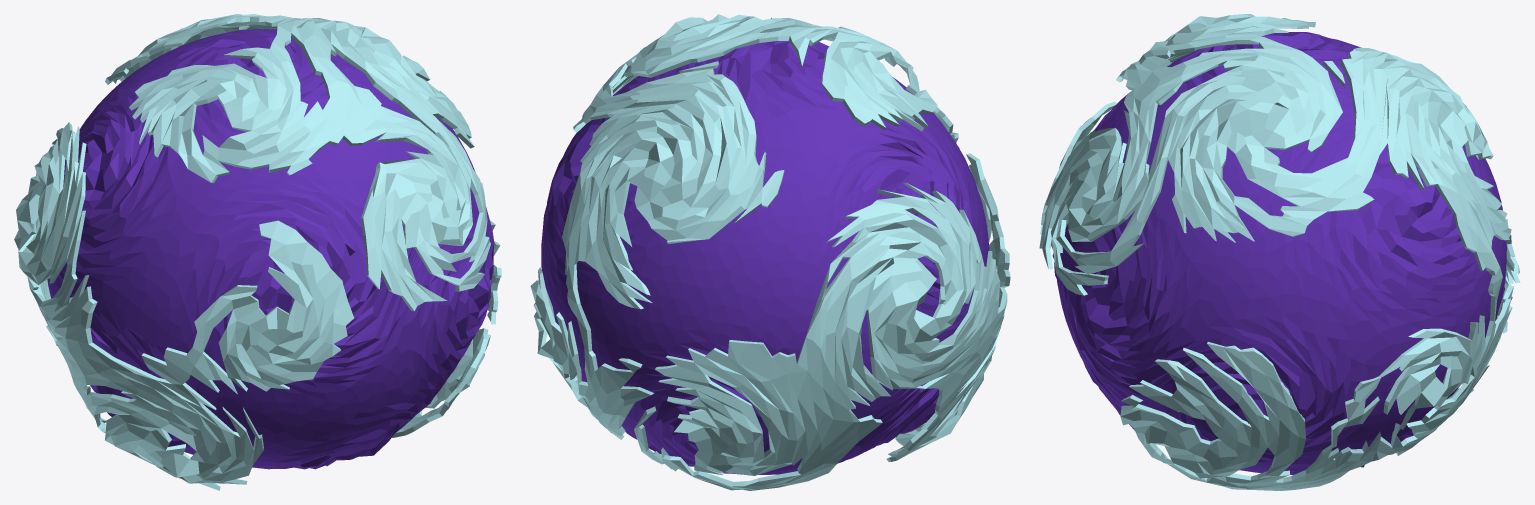
Rendered from Planet_16.glb.
3 renders of one model, left to right at view 1: azimuth 30°, elevation 25°; view 2: azimuth 150°, elevation 25°; view 3: azimuth 270°, elevation 25°, orthographic.
Parts seen in each view (by area): view 1: Planet_16; view 2: Planet_16; view 3: Planet_16.
Boxes of the visible parts, x1,y1,x2,y2 form: Planet_16: [14, 14, 501, 490]; Planet_16: [530, 14, 1010, 490]; Planet_16: [1039, 14, 1520, 490].
Size of the model in its own units: 21.19 by 20.16 by 21.23.
Materials: 1 (1 with a texture image).
